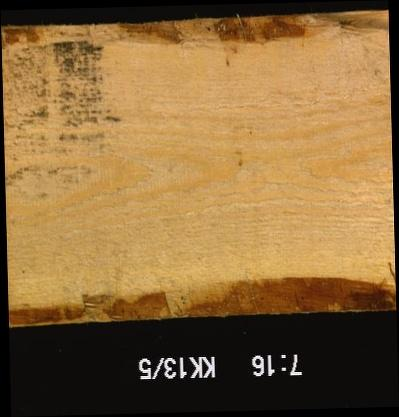wave: (7, 278, 395, 322), (0, 18, 388, 49)
